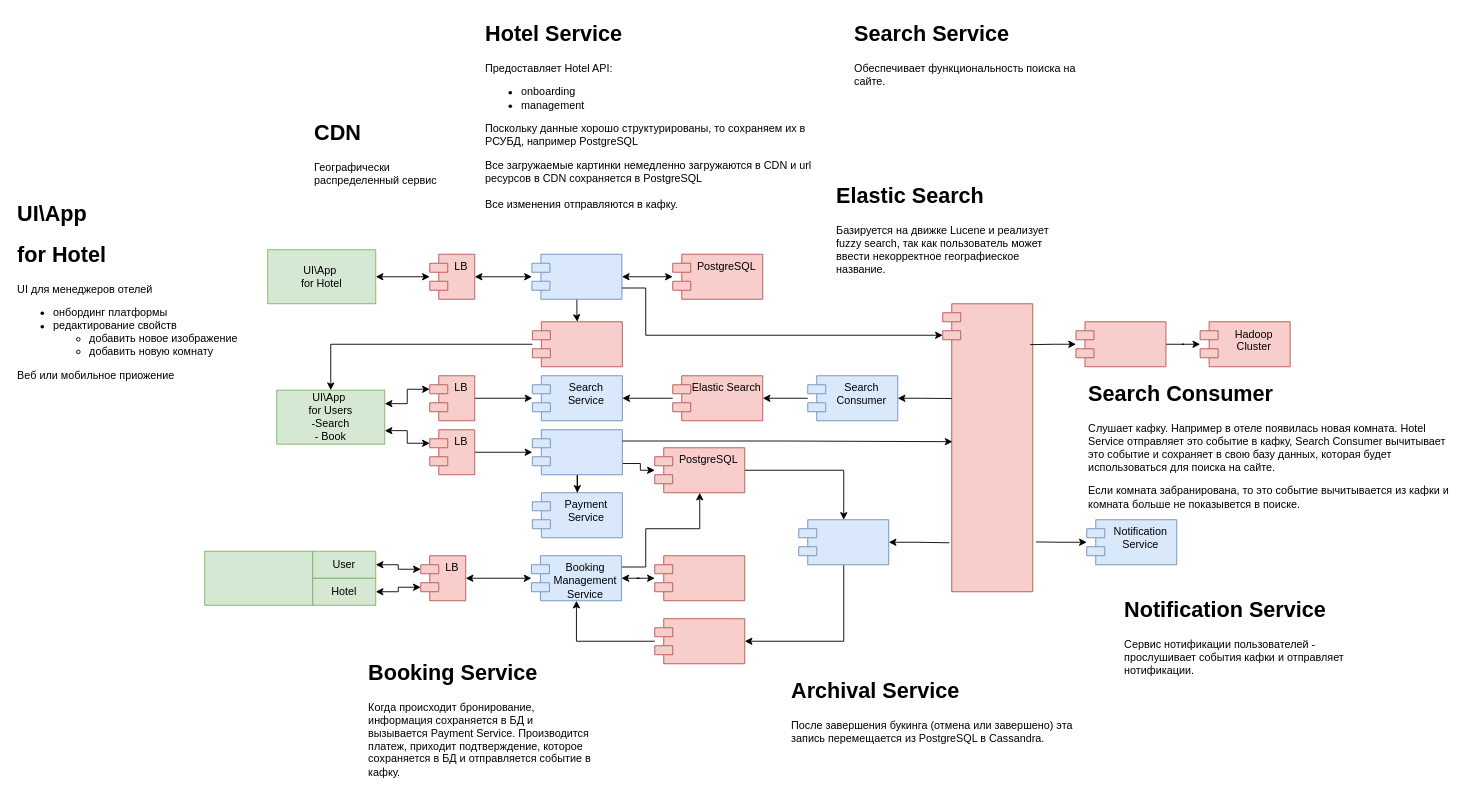
This 1480x807 diagram has some shape labels left out. Each missing label, with the centre of its shape:
"Archival Service" goes at [843,542].
"Booking Service" goes at [576,452].
"Cassandra" goes at [699,641].
"CDN" goes at [576,344].
"Hotel Service" goes at [576,276].
"Kafka" goes at [987,447].
"Redis" goes at [699,578].
"Spark Streaming Consumer" goes at [1120,344].
"UI\App to View Bookings" goes at [258,577].
